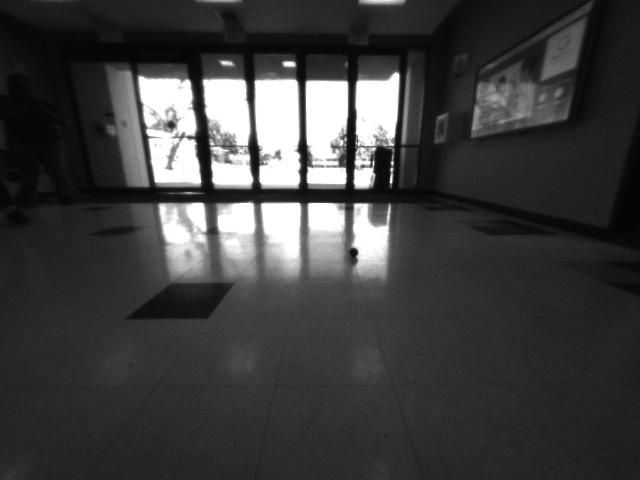dogtoy: (342, 241, 367, 264)
